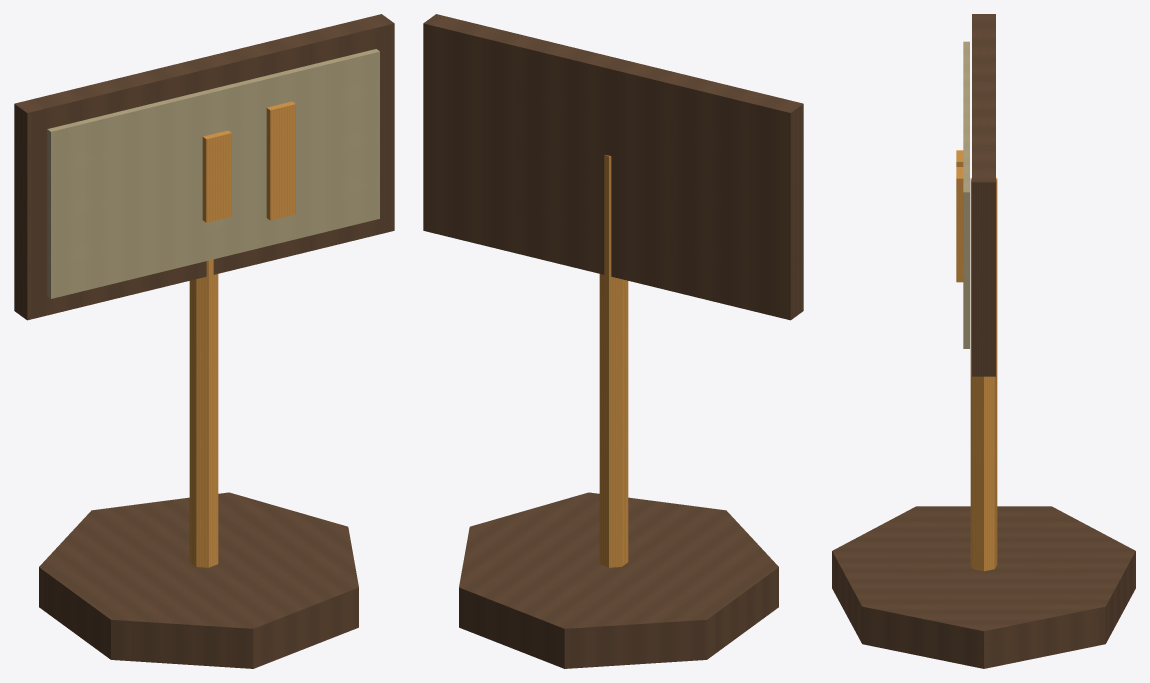
Rendered from atlas100-s012-a11.lod1.glb.
3 views of the same model, side by side, from view 1: azimuth 30°, elevation 25°; view 2: azimuth 150°, elevation 25°; view 3: azimuth 270°, elevation 25° (orthographic). The views are drawn at different scales.
Visible parts, largest first — view 1: atlas100-s012-a11:part-003, atlas100-s012-a11:part-000, atlas100-s012-a11:part-002, atlas100-s012-a11:part-001, atlas100-s012-a11:part-006, atlas100-s012-a11:part-005; view 2: atlas100-s012-a11:part-002, atlas100-s012-a11:part-000, atlas100-s012-a11:part-001; view 3: atlas100-s012-a11:part-000, atlas100-s012-a11:part-002, atlas100-s012-a11:part-001, atlas100-s012-a11:part-003, atlas100-s012-a11:part-006.
Boxes of the visible parts, box(x1,y1,x2,y2) form: atlas100-s012-a11:part-003: box(47, 49, 379, 298); atlas100-s012-a11:part-000: box(39, 492, 358, 668); atlas100-s012-a11:part-002: box(14, 14, 394, 320); atlas100-s012-a11:part-001: box(189, 259, 218, 567); atlas100-s012-a11:part-006: box(266, 101, 295, 220); atlas100-s012-a11:part-005: box(202, 130, 231, 222); atlas100-s012-a11:part-002: box(423, 14, 803, 320); atlas100-s012-a11:part-000: box(459, 492, 778, 668); atlas100-s012-a11:part-001: box(599, 154, 628, 567); atlas100-s012-a11:part-000: box(832, 506, 1135, 668); atlas100-s012-a11:part-002: box(972, 14, 995, 376); atlas100-s012-a11:part-001: box(970, 178, 997, 571); atlas100-s012-a11:part-003: box(963, 41, 969, 348); atlas100-s012-a11:part-006: box(956, 167, 963, 282).
Size of the model in its own units: 1.15 by 1.61 by 0.8774.
3 materials, 3 textured.
